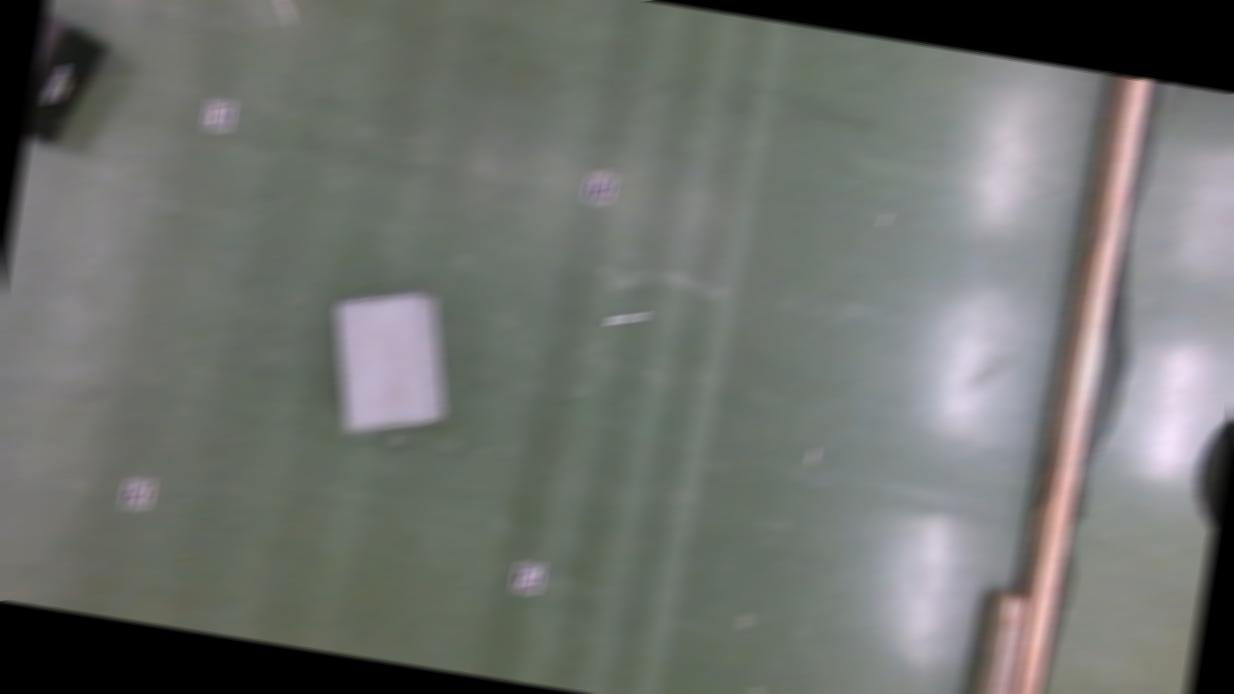probes: (604, 305, 652, 331), (266, 0, 300, 25)
rako: (315, 277, 465, 445), (22, 9, 112, 150)
